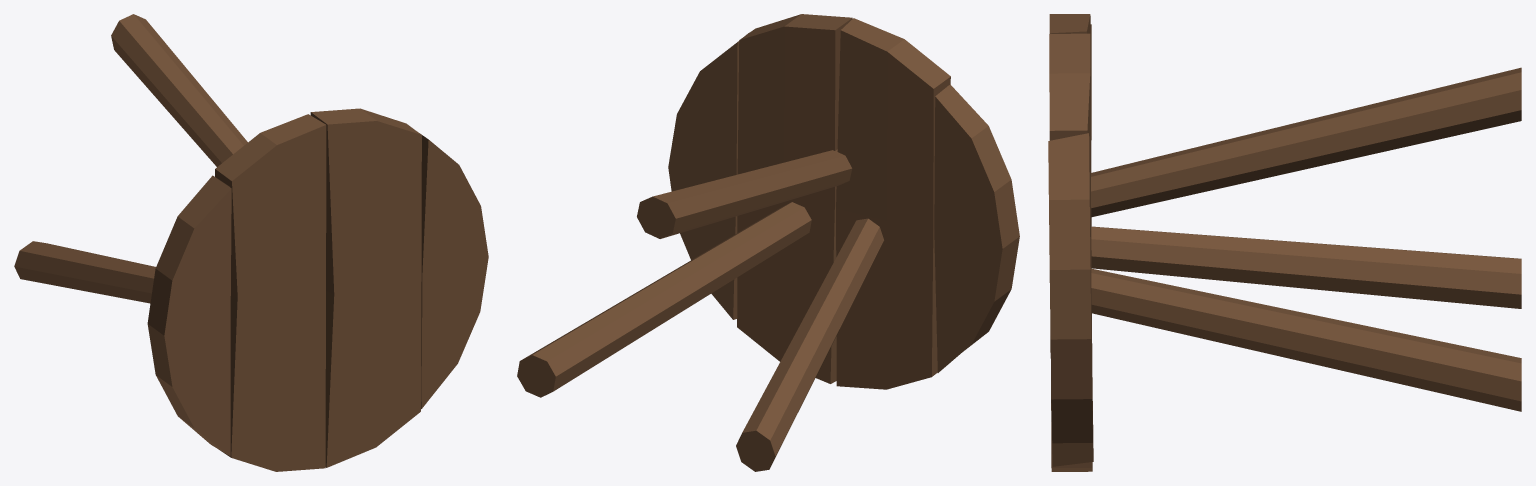
The model's file is Chair_04.fbx.
3 renders of one model, left to right at view 1: azimuth 30°, elevation 25°; view 2: azimuth 150°, elevation 25°; view 3: azimuth 270°, elevation 25°, orthographic. The views are drawn at different scales.
Parts seen in each view (by area): view 1: chair_3.0_LOW.004; view 2: chair_3.0_LOW.004; view 3: chair_3.0_LOW.004.
Part boxes in pixels (x1,y1,x2,y2): chair_3.0_LOW.004: (14,14,488,471); chair_3.0_LOW.004: (517,14,1019,471); chair_3.0_LOW.004: (1048,14,1521,471).
Size of the model in its own units: 36.74 by 37.27 by 38.15.
